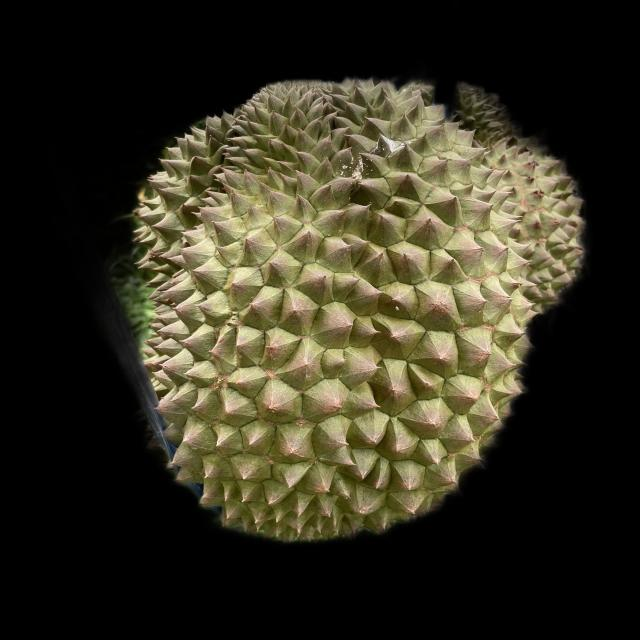mature: (121, 71, 591, 540)
